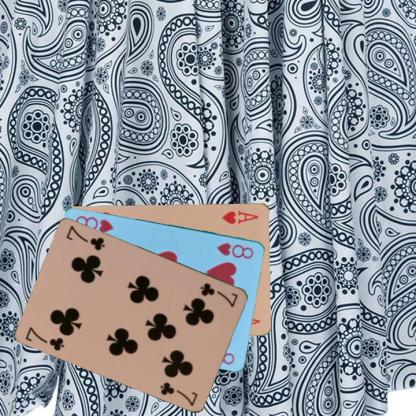7c: (198, 280, 240, 309), (23, 324, 66, 352)
8h: (214, 240, 255, 260)
Ah: (219, 208, 260, 226)
